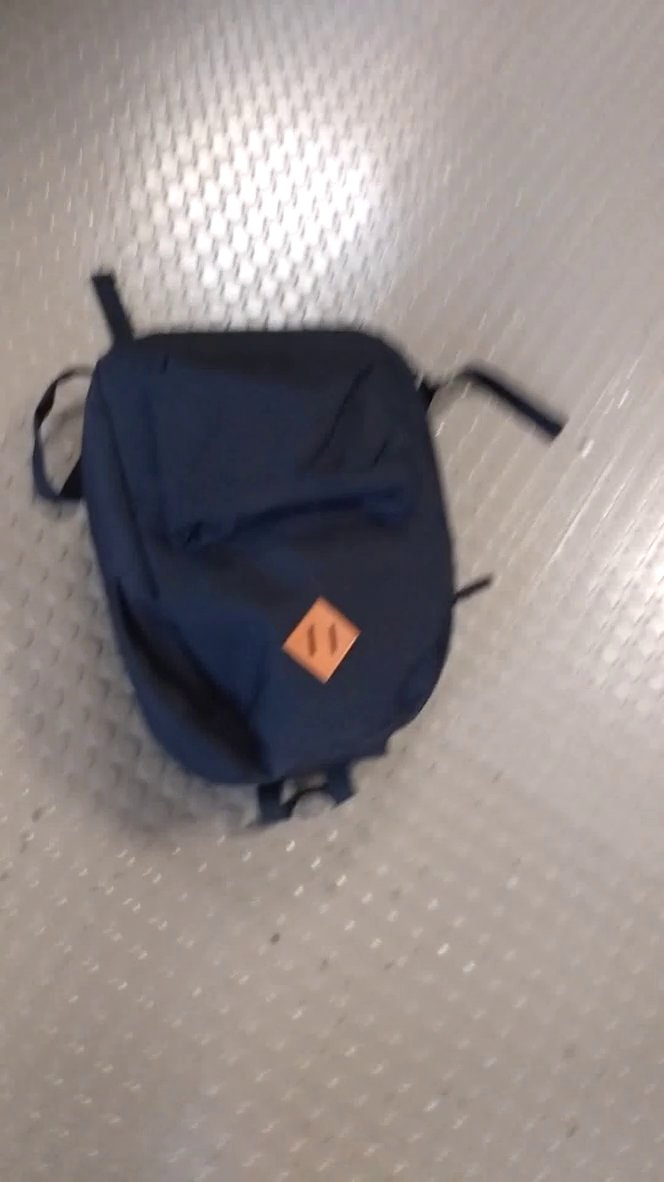bag: (25, 258, 574, 835)
